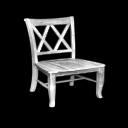chair_success: (16, 13, 112, 111)
